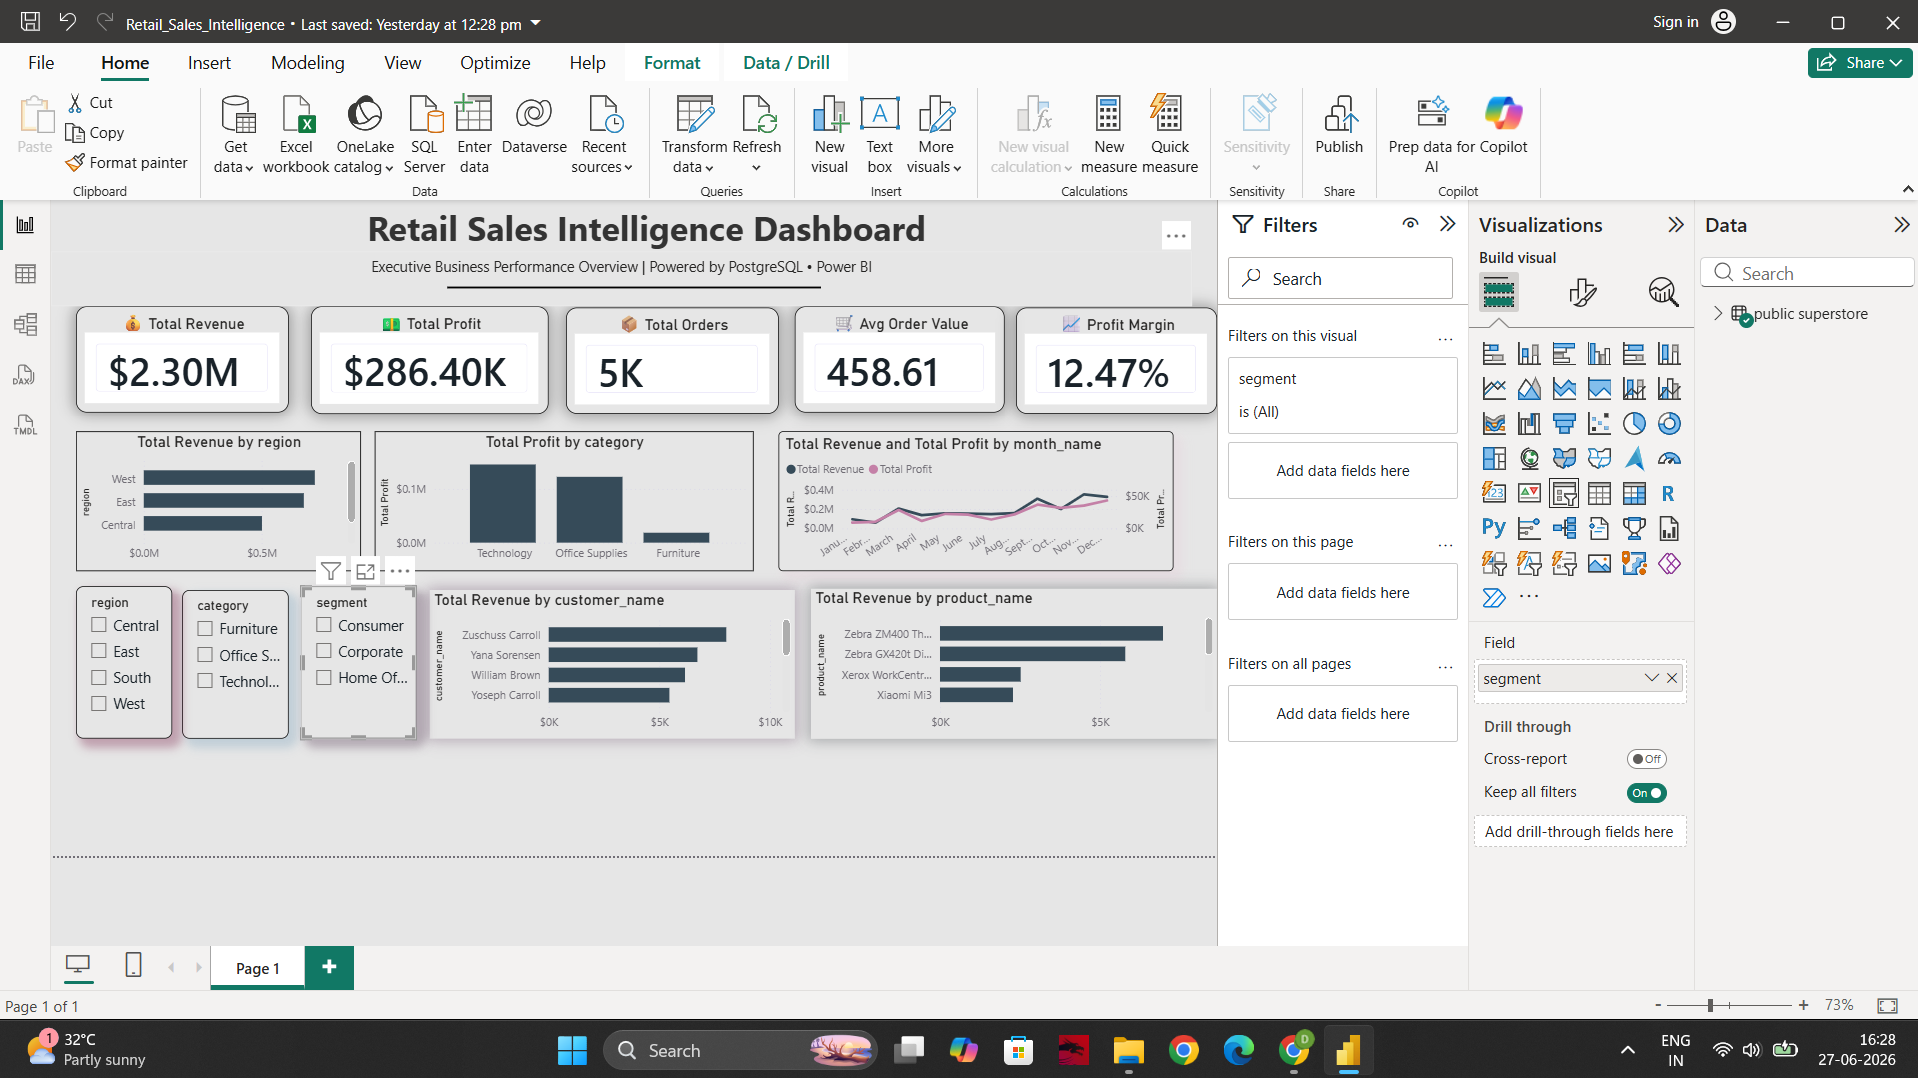

The dashboard page shown, as its layout file describes it:
{"tool":"powerbi","page":{"name":"Page 1","canvas":[1280,720],"ordinal":0},"visuals":[{"type":"cardVisual","title":"💰 Total Revenue","fields":{"Data":["public superstore.Total Revenue"]},"box":[27.4,116.6,233.3,116.6],"z":0},{"type":"cardVisual","title":"💵 Total Profit","fields":{"Data":["public superstore.Total Profit"]},"box":[285.4,116.6,260.7,118],"z":1000},{"type":"cardVisual","title":"📦 Total Orders","fields":{"Data":["public superstore.Total Orders"]},"box":[565.4,118,233.3,116.6],"z":2000},{"type":"cardVisual","title":"🛒 Avg Order Value","fields":{"Data":["public superstore.Average Order Value"]},"box":[816.5,116.6,230.5,116.6],"z":3000},{"type":"cardVisual","title":"📈 Profit Margin","fields":{"Data":["public superstore.Profit Margin"]},"box":[1059.4,118,220.9,116.6],"z":4000},{"type":"textbox","box":[27.4,0,1252.8,65.9],"z":5000},{"type":"textbox","box":[0,56.3,1252.8,60.4],"z":6000},{"type":"shape","box":[435,56.3,410.3,79.6],"z":7000},{"type":"clusteredBarChart","fields":{"Category":["public superstore.region"],"Y":["public superstore.Total Revenue"]},"box":[27.4,253.9,312.9,153.7],"z":8000},{"type":"clusteredColumnChart","fields":{"Category":["public superstore.category"],"Y":["public superstore.Total Profit"]},"box":[355.4,253.9,415.8,153.7],"z":9000},{"type":"lineChart","fields":{"Y":["public superstore.Total Revenue"],"Category":["public superstore.month_name"],"Y2":["public superstore.Total Profit"]},"box":[798.6,253.9,433.6,153.7],"z":10000},{"type":"clusteredBarChart","fields":{"Category":["public superstore.customer_name"],"Y":["public superstore.Total Revenue"]},"box":[415.8,428.1,400.7,163.3],"z":11000},{"type":"clusteredBarChart","fields":{"Category":["public superstore.product_name"],"Y":["public superstore.Total Revenue"]},"box":[834.3,426.8,446,164.7],"z":12000},{"type":"slicer","fields":{"Values":["public superstore.category"]},"box":[144.1,428.1,116.6,163.3],"z":13000},{"type":"slicer","fields":{"Values":["public superstore.region"]},"box":[27.4,424,105.7,167.4],"z":14000},{"type":"slicer","fields":{"Values":["public superstore.segment"]},"box":[274.4,424,126.2,167.4],"z":14001}]}

Visuals, with their boxes on the page's 1280x720 design canvas (x1, y1, x2, y2). These are canvas units, not pixel positions in the 1918x1078 screenshot, which may show the page scaled, cropped or inside an application window:
"💰 Total Revenue" cardVisual: {"left": 27, "top": 117, "right": 261, "bottom": 233}
"💵 Total Profit" cardVisual: {"left": 285, "top": 117, "right": 546, "bottom": 235}
"📦 Total Orders" cardVisual: {"left": 565, "top": 118, "right": 799, "bottom": 235}
"🛒 Avg Order Value" cardVisual: {"left": 816, "top": 117, "right": 1047, "bottom": 233}
"📈 Profit Margin" cardVisual: {"left": 1059, "top": 118, "right": 1280, "bottom": 235}
textbox: {"left": 27, "top": 0, "right": 1280, "bottom": 66}
textbox: {"left": 0, "top": 56, "right": 1253, "bottom": 117}
shape: {"left": 435, "top": 56, "right": 845, "bottom": 136}
clusteredBarChart - public superstore.region x public superstore.Total Revenue: {"left": 27, "top": 254, "right": 340, "bottom": 408}
clusteredColumnChart - public superstore.category x public superstore.Total Profit: {"left": 355, "top": 254, "right": 771, "bottom": 408}
lineChart - public superstore.Total Revenue x public superstore.month_name: {"left": 799, "top": 254, "right": 1232, "bottom": 408}
clusteredBarChart - public superstore.customer_name x public superstore.Total Revenue: {"left": 416, "top": 428, "right": 816, "bottom": 591}
clusteredBarChart - public superstore.product_name x public superstore.Total Revenue: {"left": 834, "top": 427, "right": 1280, "bottom": 592}
slicer - public superstore.category: {"left": 144, "top": 428, "right": 261, "bottom": 591}
slicer - public superstore.region: {"left": 27, "top": 424, "right": 133, "bottom": 591}
slicer - public superstore.segment: {"left": 274, "top": 424, "right": 401, "bottom": 591}
